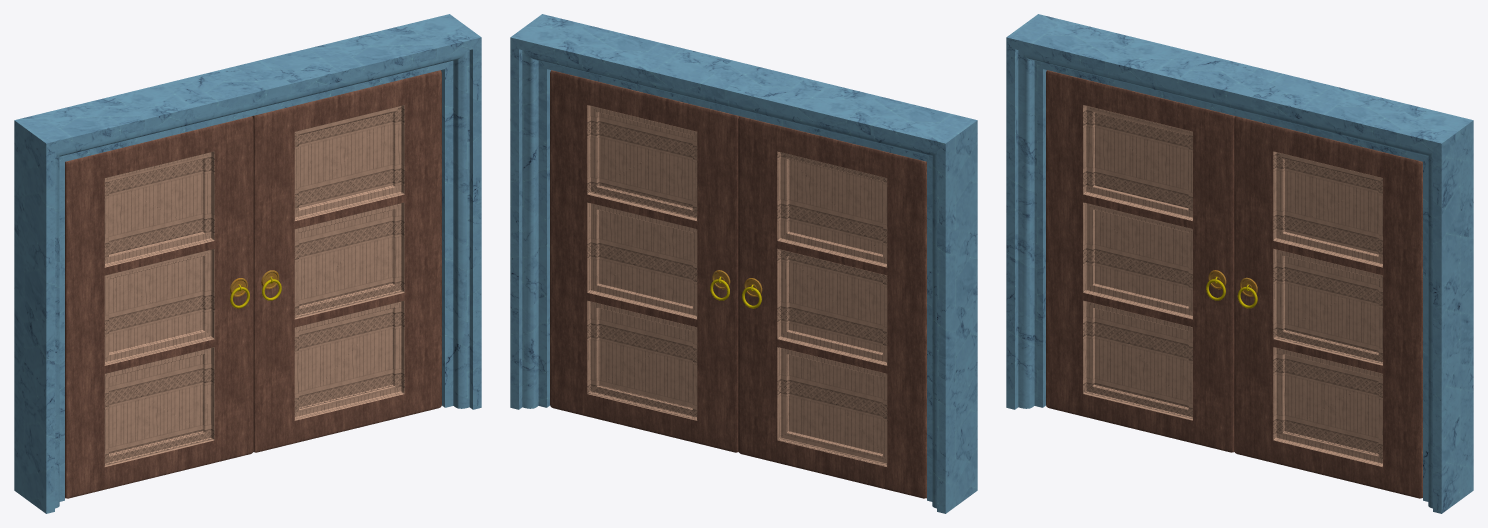
File: RC_Door_05.gltf
The picture shows the model from 3 angles, left to right: view 1: azimuth 30°, elevation 25°; view 2: azimuth 150°, elevation 25°; view 3: azimuth 330°, elevation 25°; orthographic projection.
Parts seen in each view (by area): view 1: RC_Door_01_Right, RC_Door_01_Left, RC_Door_01_Frame; view 2: RC_Door_01_Right, RC_Door_01_Left, RC_Door_01_Frame; view 3: RC_Door_01_Left, RC_Door_01_Right, RC_Door_01_Frame.
Boxes of the visible parts, x1=… form: RC_Door_01_Right: x1=252, y1=70, x2=441, y2=452; RC_Door_01_Left: x1=65, y1=116, x2=253, y2=498; RC_Door_01_Frame: x1=14, y1=14, x2=481, y2=513; RC_Door_01_Right: x1=550, y1=70, x2=739, y2=452; RC_Door_01_Left: x1=738, y1=116, x2=926, y2=498; RC_Door_01_Frame: x1=510, y1=14, x2=977, y2=513; RC_Door_01_Left: x1=1046, y1=70, x2=1234, y2=452; RC_Door_01_Right: x1=1234, y1=116, x2=1422, y2=498; RC_Door_01_Frame: x1=1006, y1=14, x2=1473, y2=513.
Bounding box in the file's own units: 3.53 × 2.88 × 0.4492.
5 materials, 5 textured.
